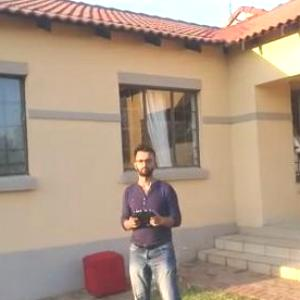follow: (117, 139, 200, 299)
